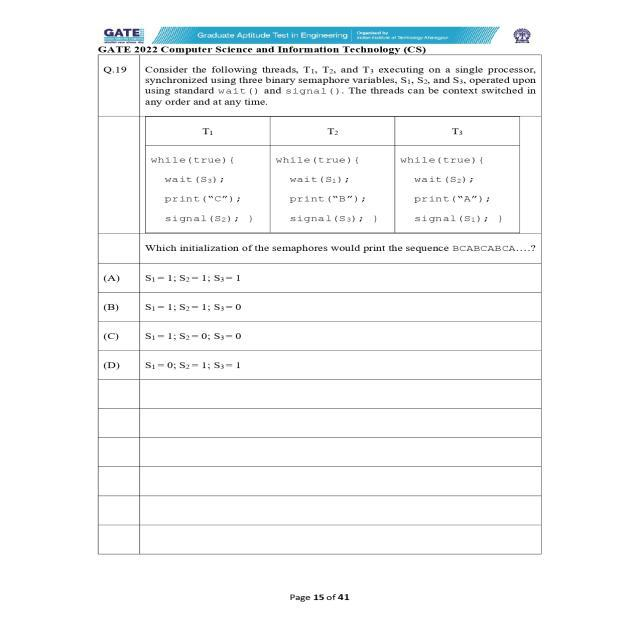Answer_Block: (99, 263, 542, 379)
Question_Answer_Block: (98, 54, 542, 378)
Question_Block: (99, 54, 541, 263)
Question_Paper_Area: (98, 55, 540, 378)
